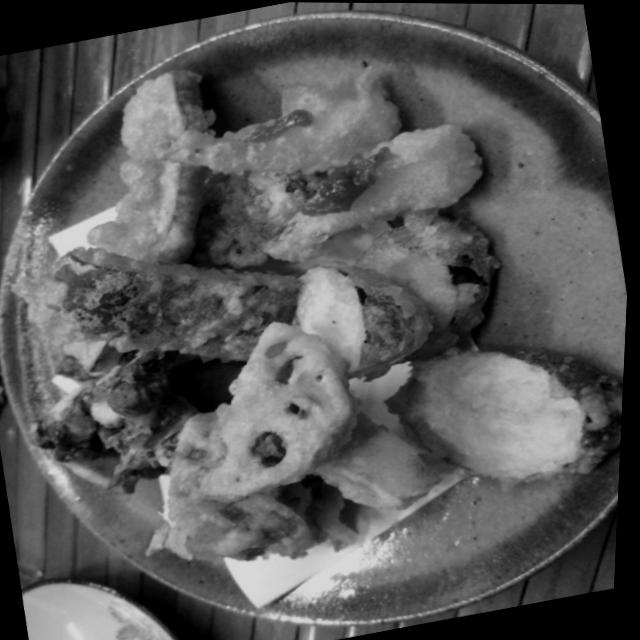蔬菜料理: (0, 13, 640, 630)
